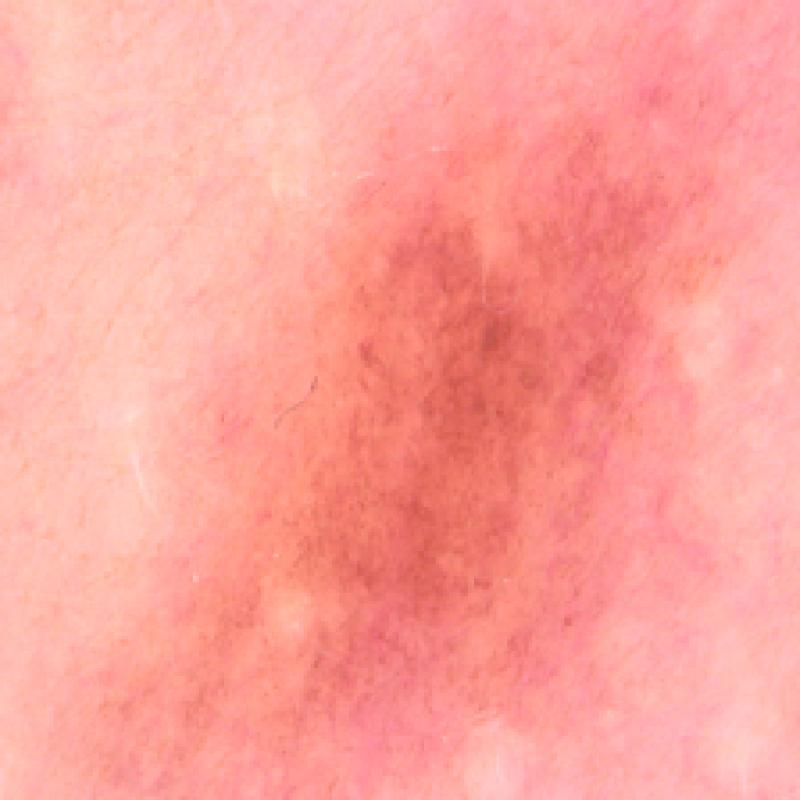benign: (150, 134, 759, 710)
